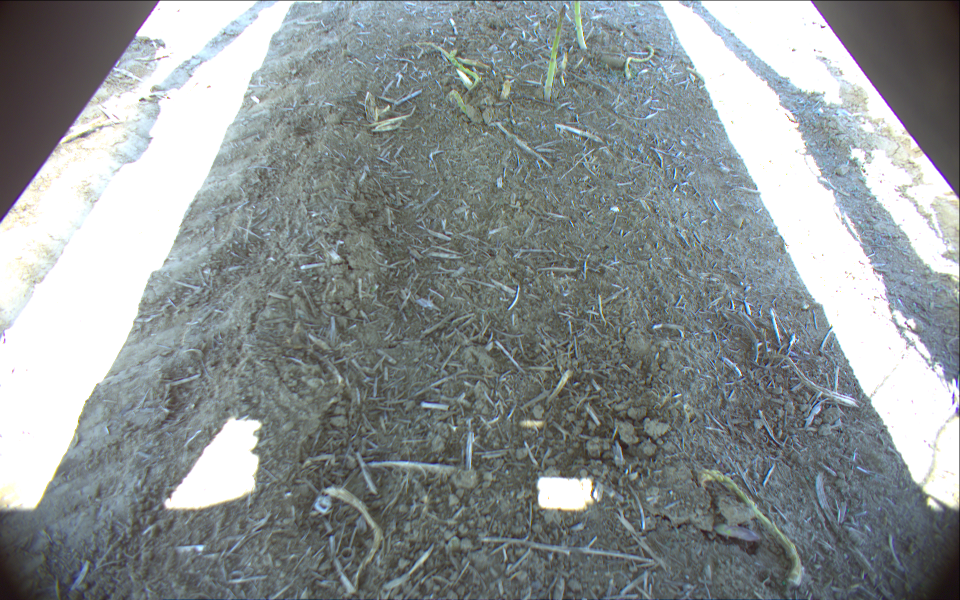aspa: (541, 4, 567, 102), (571, 1, 591, 52)
